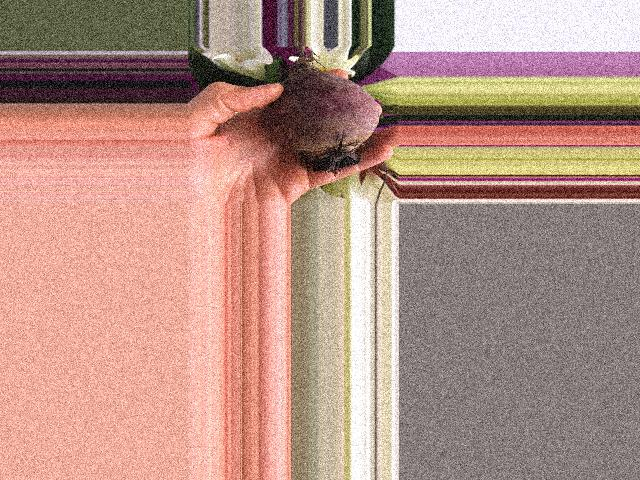beet: (266, 46, 380, 176)
